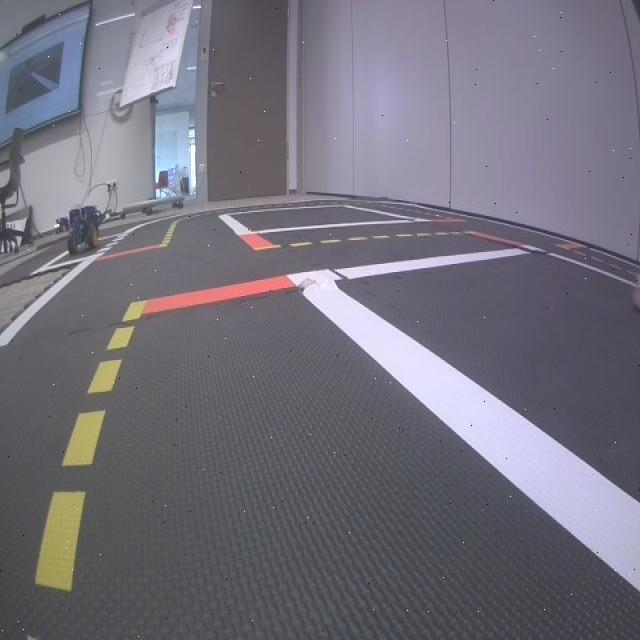bot: (67, 205, 99, 253)
park: (31, 233, 129, 274)
